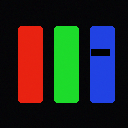3 line_h: (91, 49, 109, 55)
